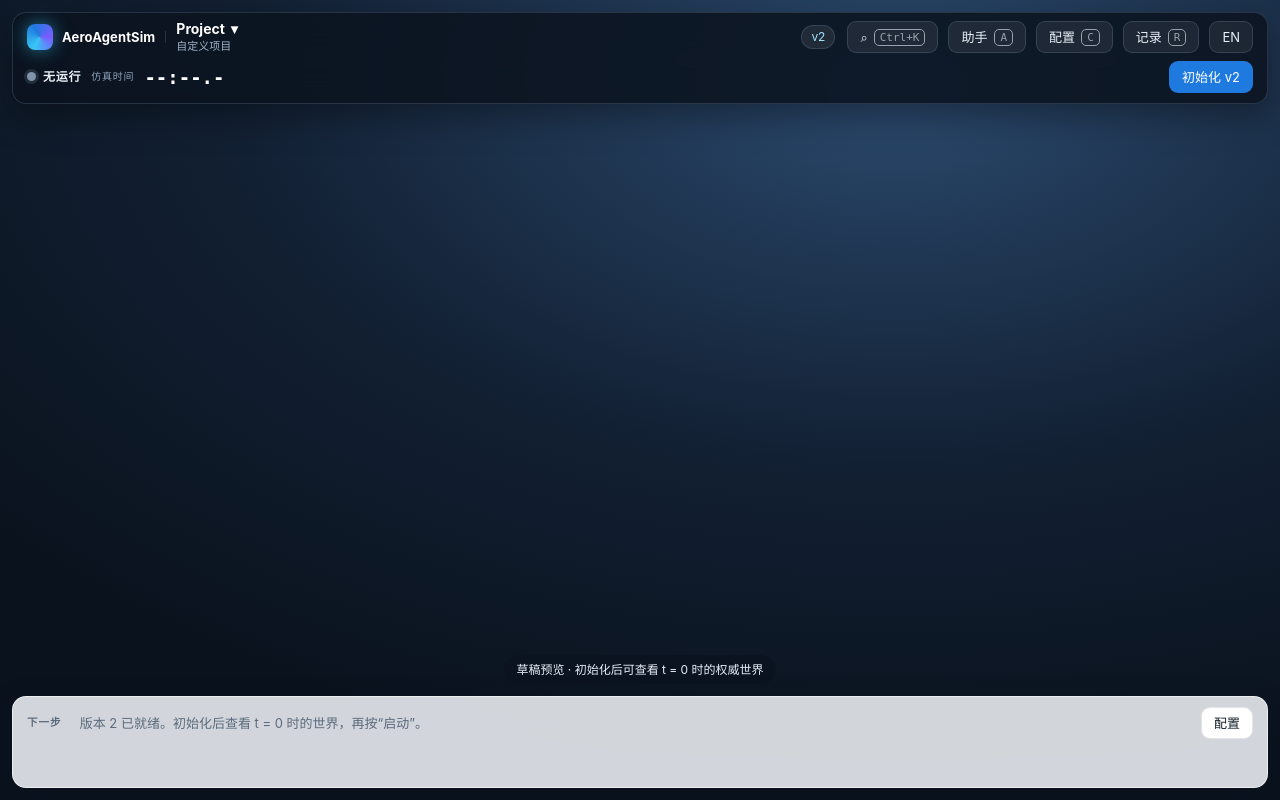
Test: reports a pending initialization without success or Start (zh-CN)
Click the button with test id "wb-init".
click(1211, 77)  # box [1169, 61, 1253, 93]
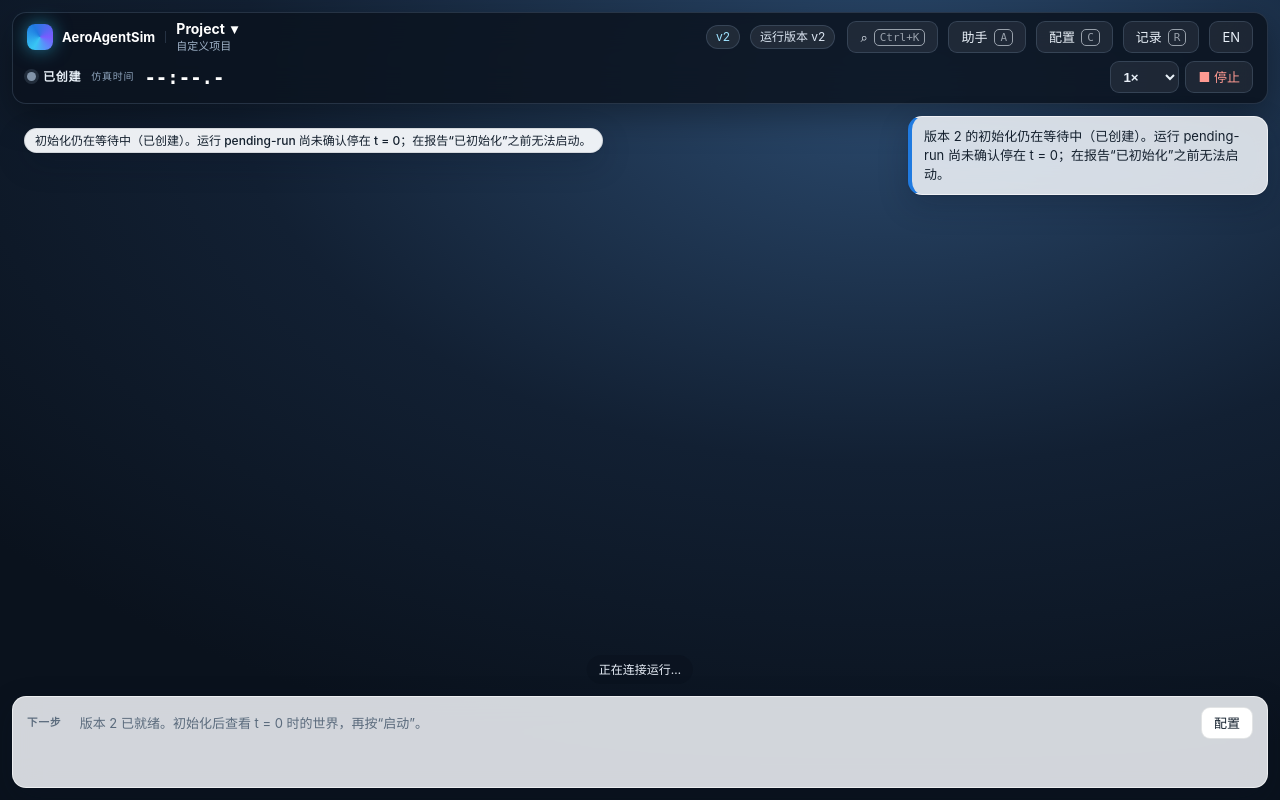
Check: the text with test id "current-url" shows "run=pending-run", box [77, 0, 303, 22]
Check: the message with test id "wb-init-pending" shows "初始化仍在等待中", box [35, 133, 592, 148]
Check: the message with test id "wb-init-pending" shows "pending-run", box [35, 133, 592, 148]
